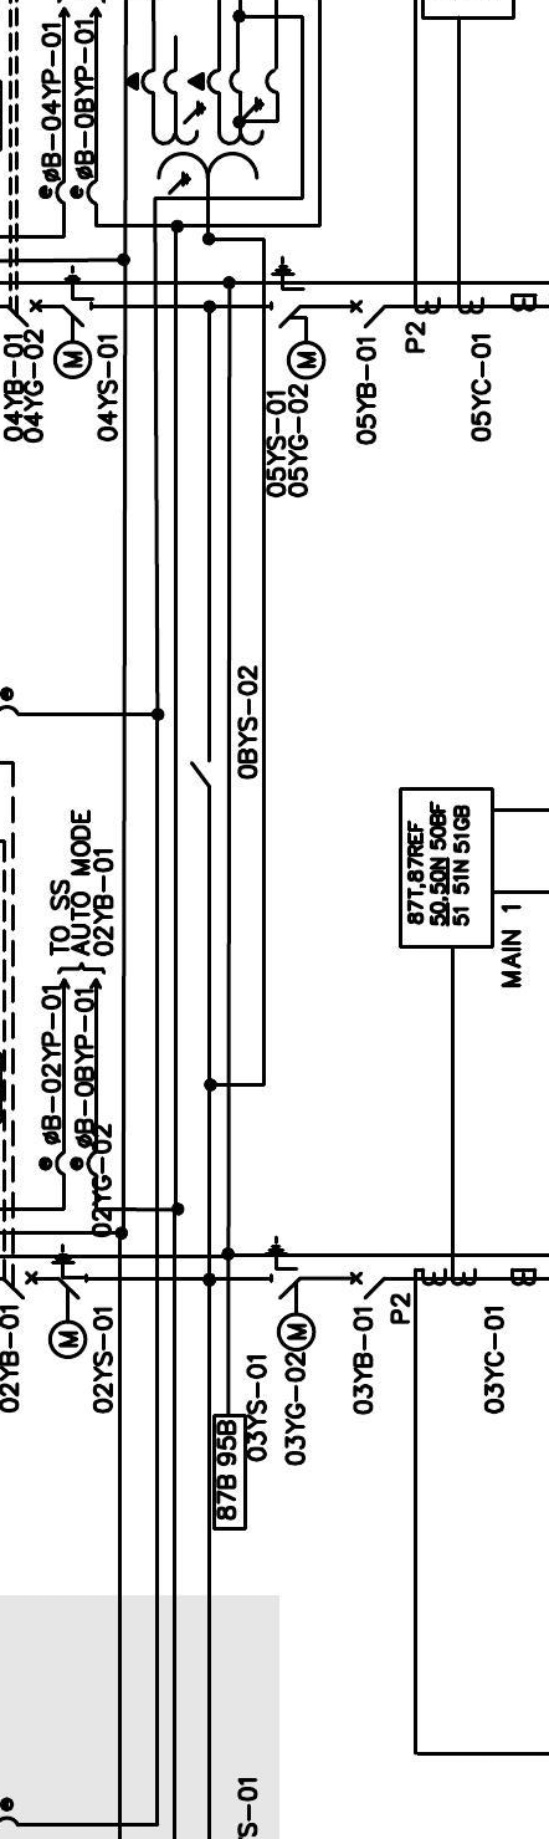115_3ways_ds_w_motor: (270, 255, 327, 381), (264, 1234, 317, 1352), (52, 264, 95, 381), (47, 1242, 89, 1360)
115_breaker: (6, 298, 45, 328), (1, 1270, 39, 1301), (348, 1270, 386, 1301), (350, 289, 387, 319)
115_ds: (189, 758, 212, 789)
115_vt_1p: (124, 67, 266, 196)
